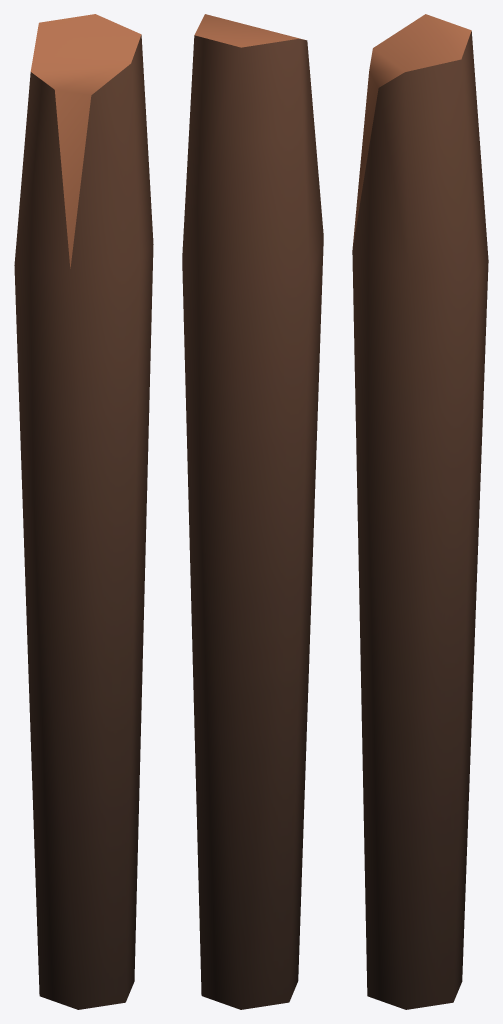
File: Fence_1B_Part_2.fbx
3 renders of one model, left to right at view 1: azimuth 30°, elevation 25°; view 2: azimuth 210°, elevation 25°; view 3: azimuth 330°, elevation 25°, orthographic.
Parts seen in each view (by area): view 1: Fence_1B_Part_2; view 2: Fence_1B_Part_2; view 3: Fence_1B_Part_2.
Boxes of the visible parts, x1,y1,x2,y2 form: Fence_1B_Part_2: [14, 14, 153, 1009]; Fence_1B_Part_2: [182, 14, 323, 1009]; Fence_1B_Part_2: [352, 14, 488, 1009].
Size of the model in its own units: 20.29 by 146 by 18.77.
